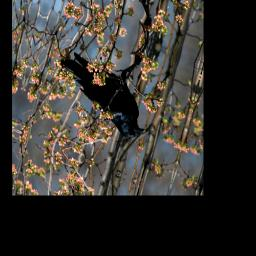Crow: (51, 29, 166, 148)
